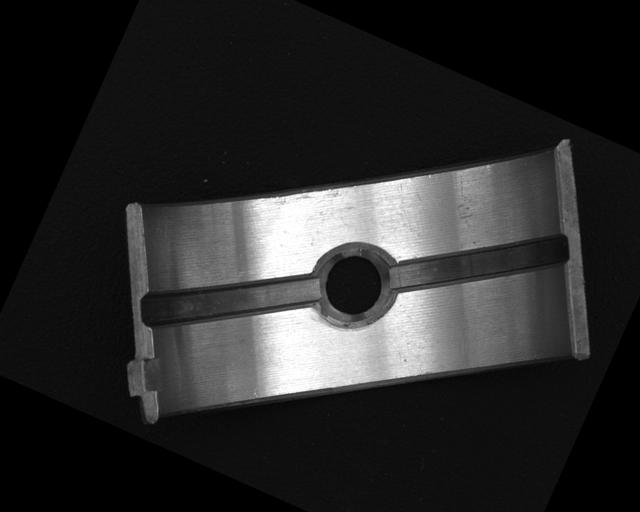gap: (382, 177, 575, 348), (135, 217, 323, 383)
hole: (304, 234, 405, 336)
